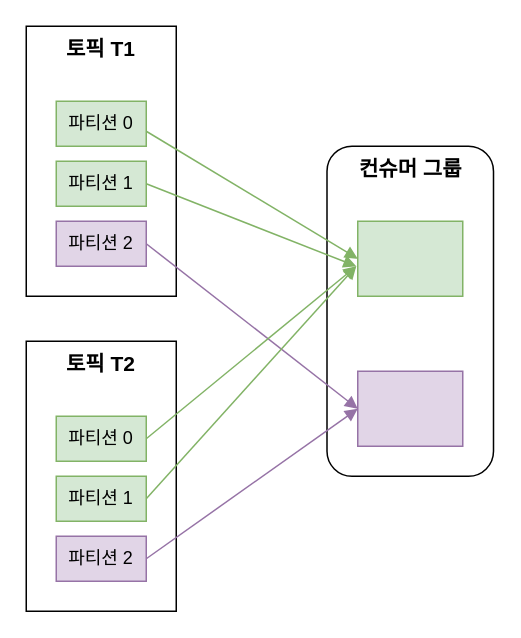
Some shapes in this 521 by 638 pixel diagram are drawn without their labels. The centre of each missing label's shape, as x and y in pixels:
"컨슈머 C1" belongs at (x=409, y=258).
"컨슈머 C2" belongs at (x=409, y=408).
